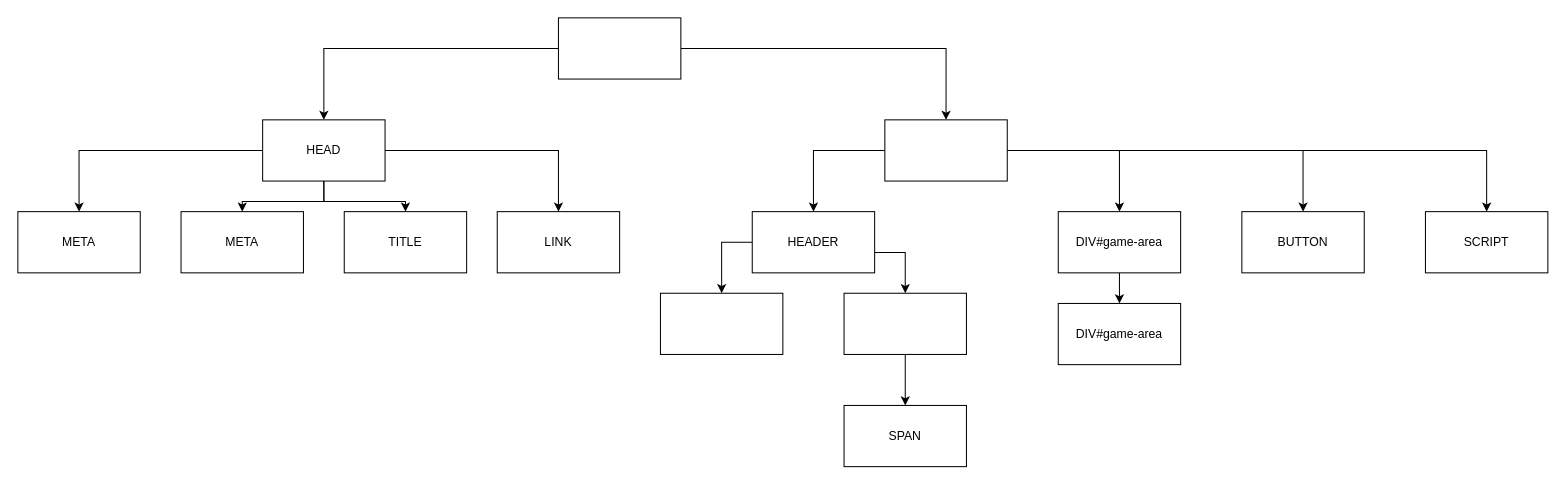
The diagram is 1566 pixels wide and 485 high, and some of its shapes have lost their labels. The shapes that lost their labels are listed below. From the top down, each one's centre as x and y in pixels, then its label:
At (619,48): "HTML".
At (945,150): "BODY".
At (721,323): "H1".
At (904,323): "H3".
